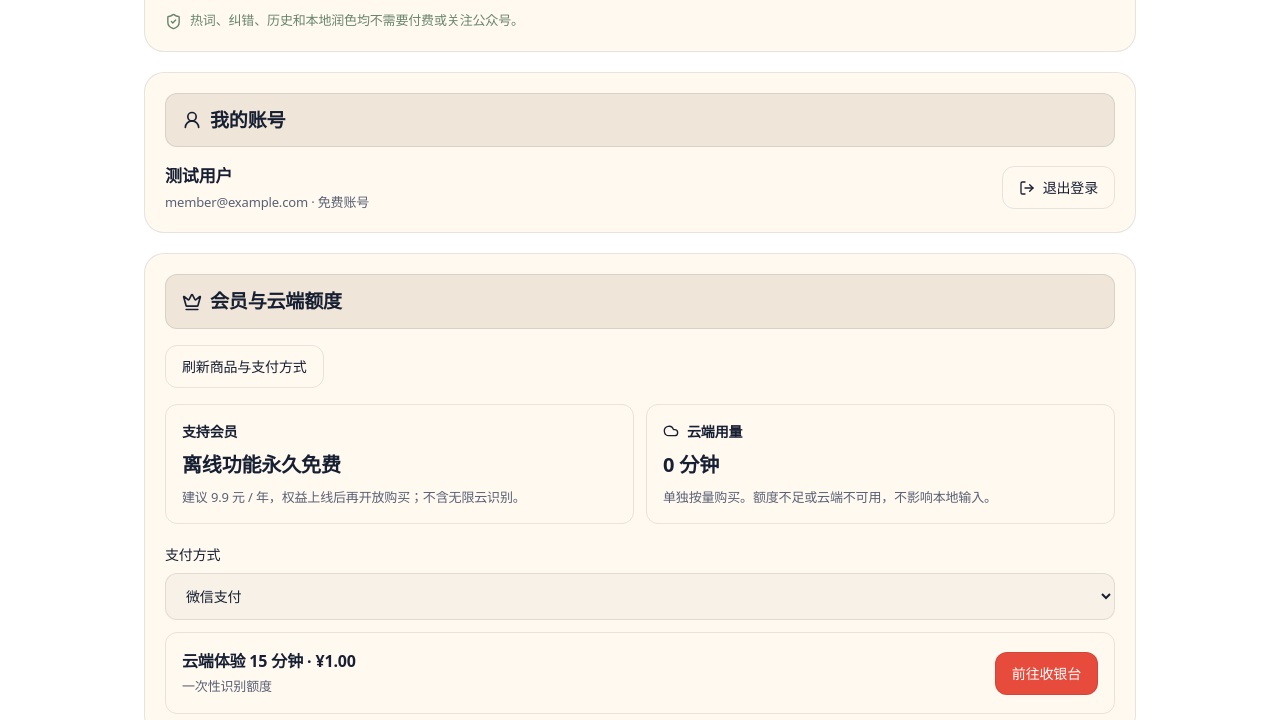
Test: Legacy cloud account (not the active account route) › starts a new purchase after the server returns an already closed order
(page scrolled)
Click the button "前往收银台" at (1046, 673), box [995,652,1098,695]
(page scrolled)
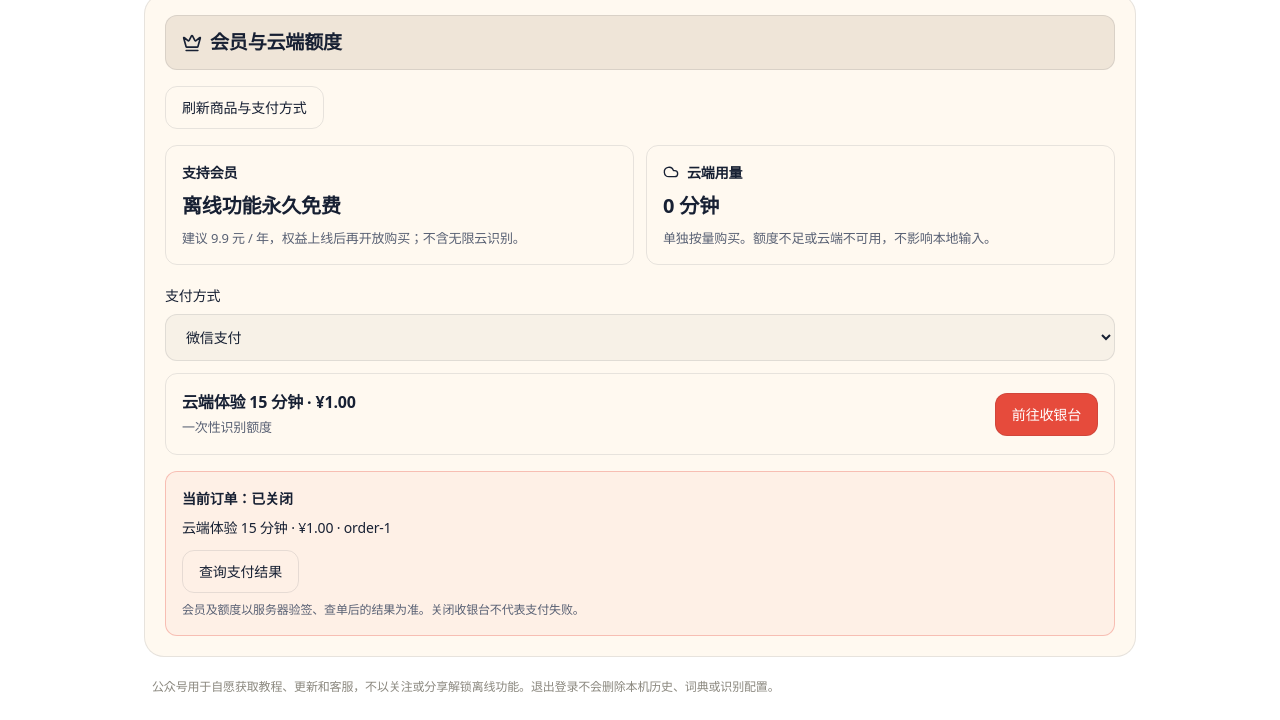
Expected: the text "当前订单：已关闭" is shown, [182,489,293,508]
Click the button "前往收银台" at (1046, 414), box [995,393,1098,436]
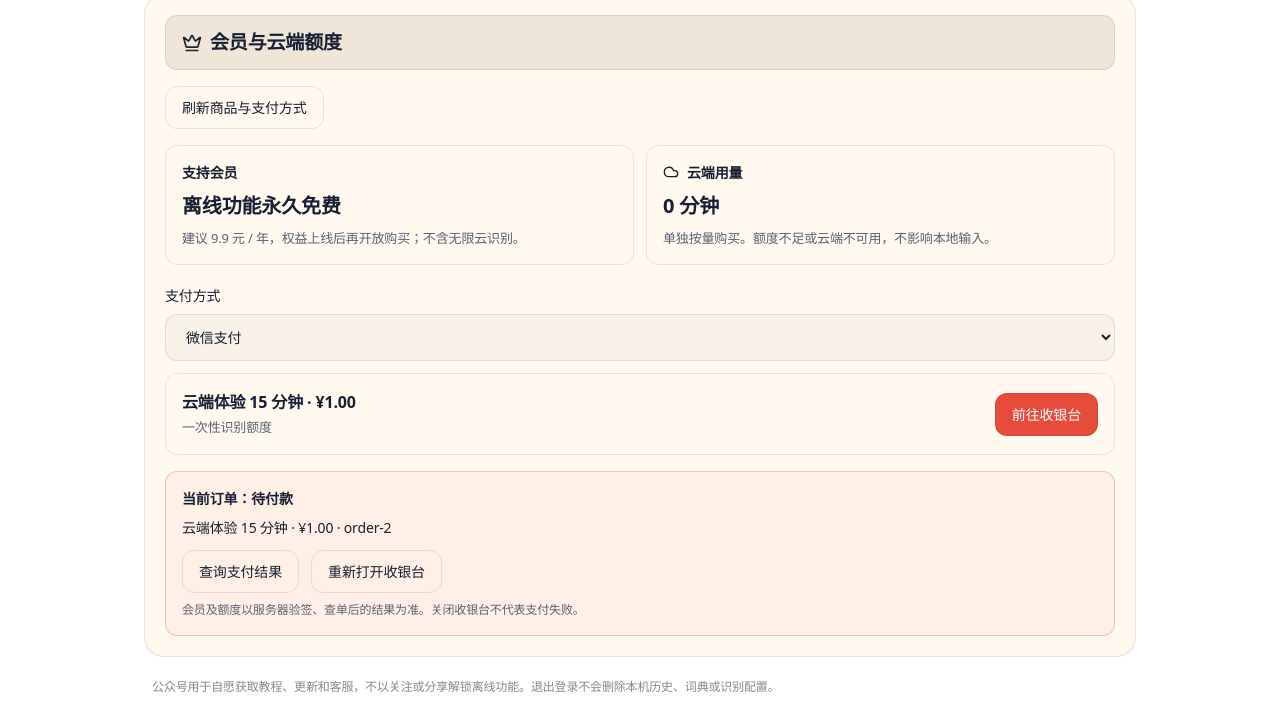
Expected: the text "当前订单：待付款" is shown, [182,489,293,508]
